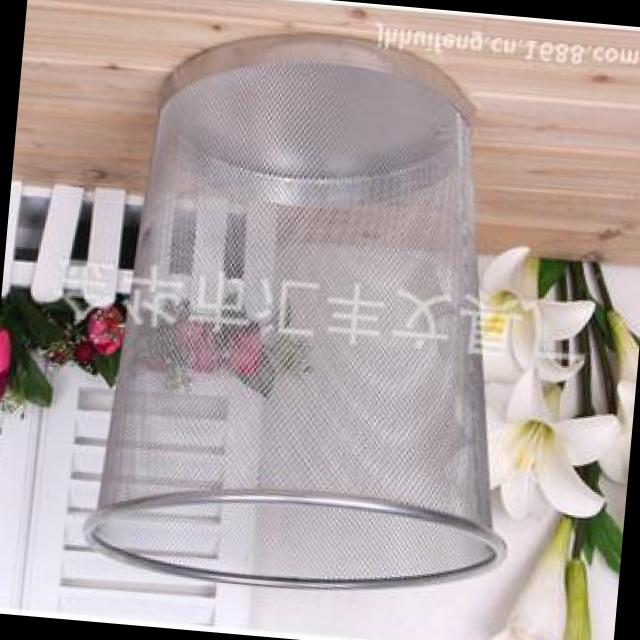dustbin: (73, 16, 556, 616)
